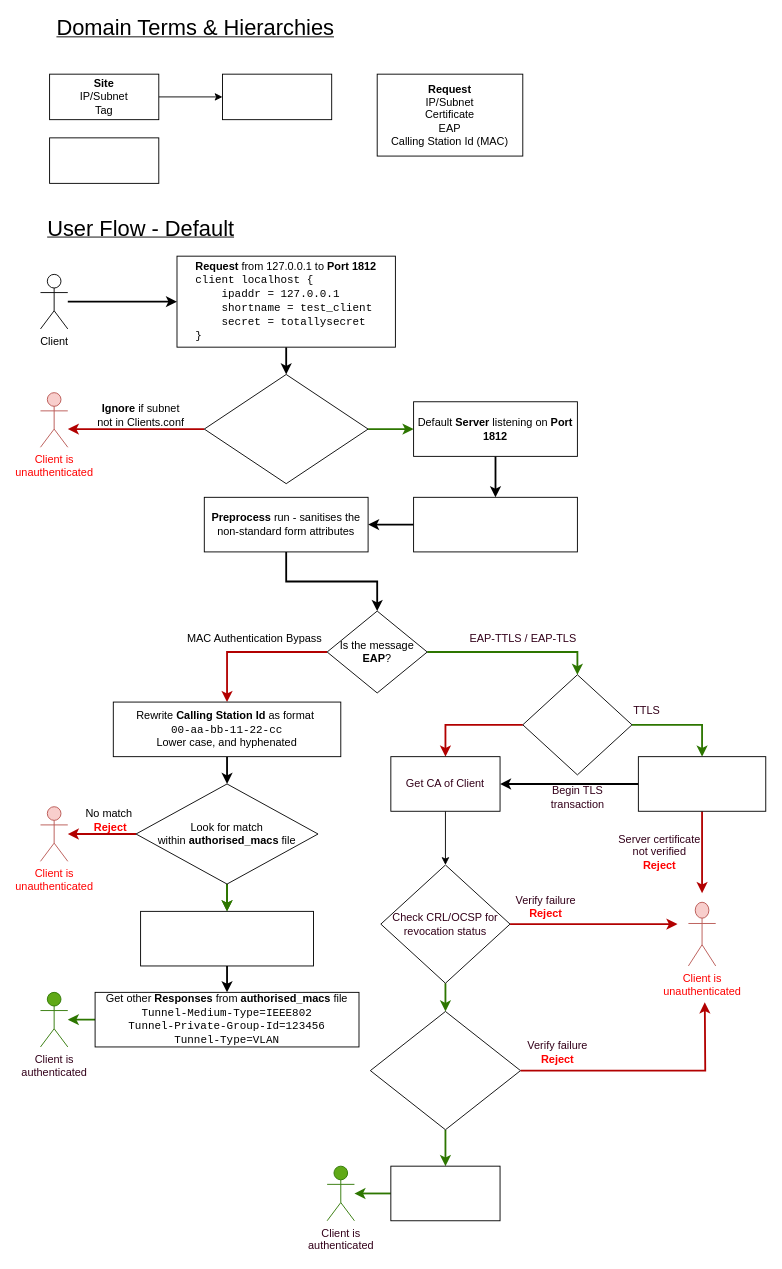
This 782x1269 diagram has some shape labels left out. The shapes that lost their labels are listed below. From the top down, each one's centre as x and y in pixels, then its label:
point 277,96: Authorised Clients IP/Subnet Secret
point 104,160: Server Port Type
point 285,429: Check Authorised Clients ( clients.conf ) for match on IP/Subnet
point 495,524: Call authorize section in Default Server
point 577,724: Is the Request TTLS?
point 701,783: Verify server certificate server.pem
point 226,938: Add Auth-Type:=Accept to the Response
point 445,1070: openssl verify Verification Certificate -> Certificate
point 445,1193: Post Auth - consult "Policy Engine" diagram
